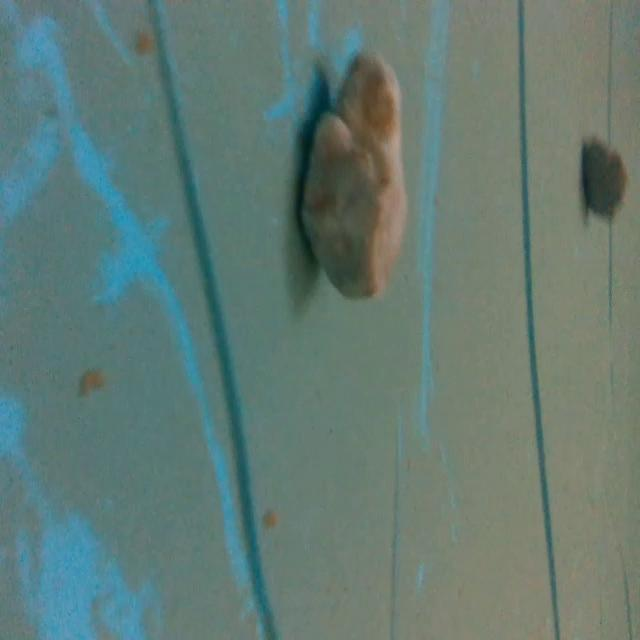rock: (302, 46, 413, 306), (580, 130, 628, 218)
